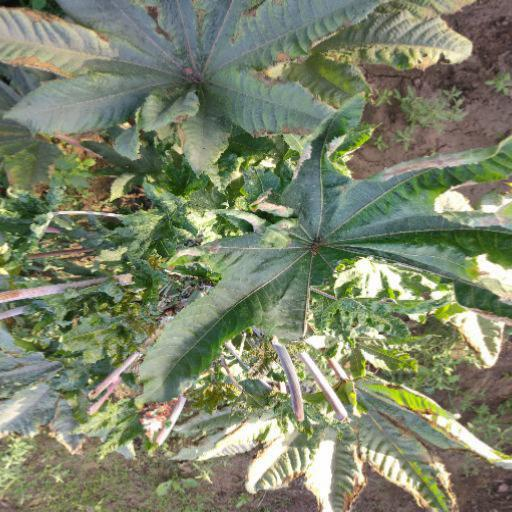crop: (15, 19, 495, 471)
